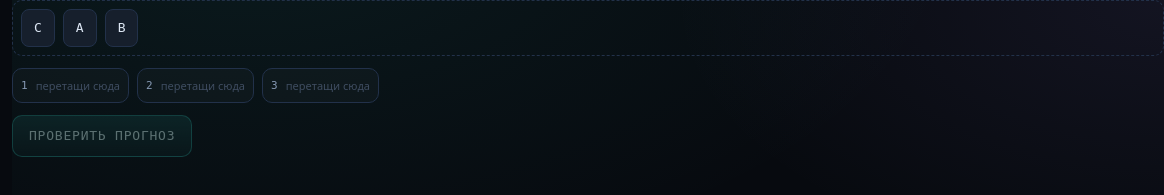
Scenario: прогноз Output › когда все карточки расставлены, лоток сообщает об этом
Click the button "A".
click(80, 28)  # box [63,9,97,47]
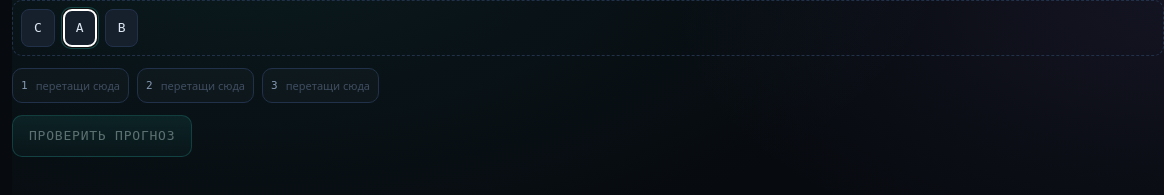
Click the button with class "slot" showing "1 перетащи сюда".
click(70, 86)  # box [12,68,129,103]
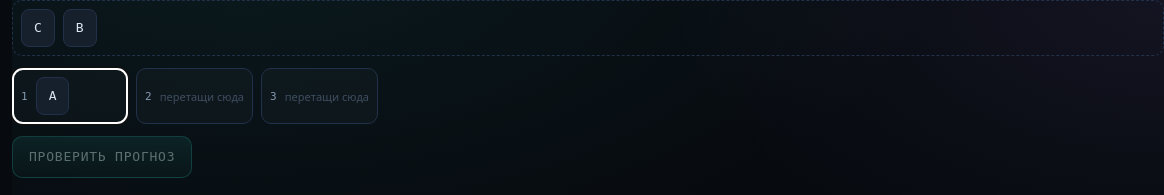
Click the button "B".
click(80, 28)  # box [63,9,97,47]
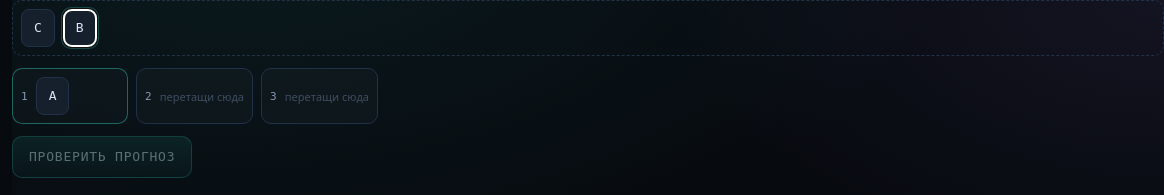
Click the button with class "slot" showing "2 перетащи сюда".
click(194, 96)  # box [136,68,253,124]
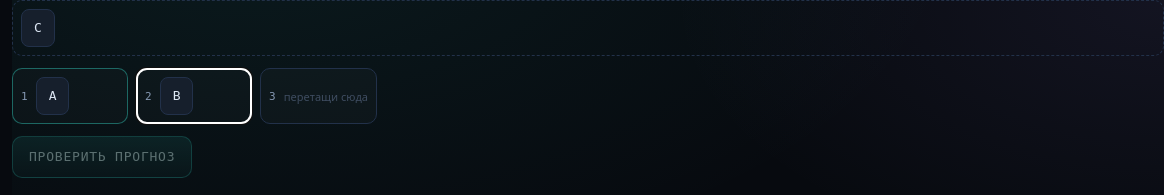
Click the button "C".
click(38, 28)  # box [21,9,55,47]
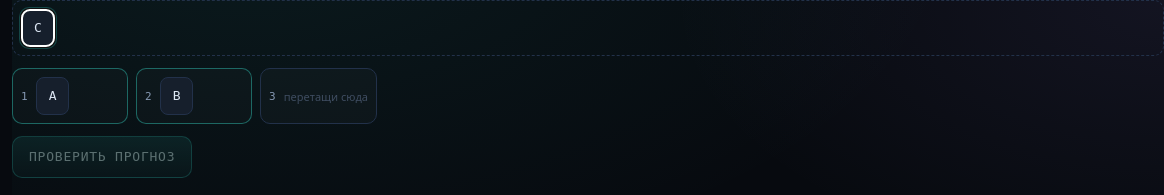
Click the button with class "slot" showing "3 перетащи сюда".
click(318, 96)  # box [260,68,377,124]
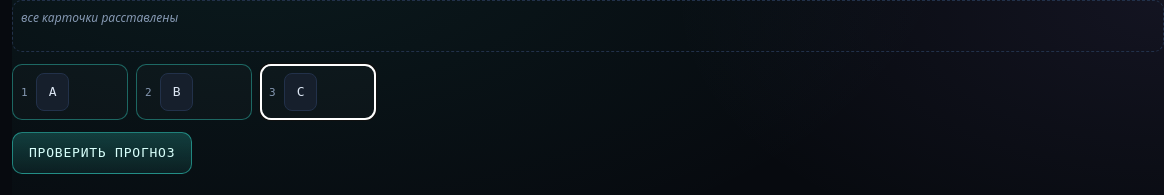
Expected: the text "все карточки расставлены" is shown, [21,9,178,26]
Expected: the button "ПРОВЕРИТЬ ПРОГНОЗ" is enabled, [12,132,192,174]
